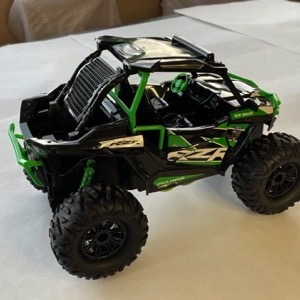polaris: (7, 33, 299, 283)
